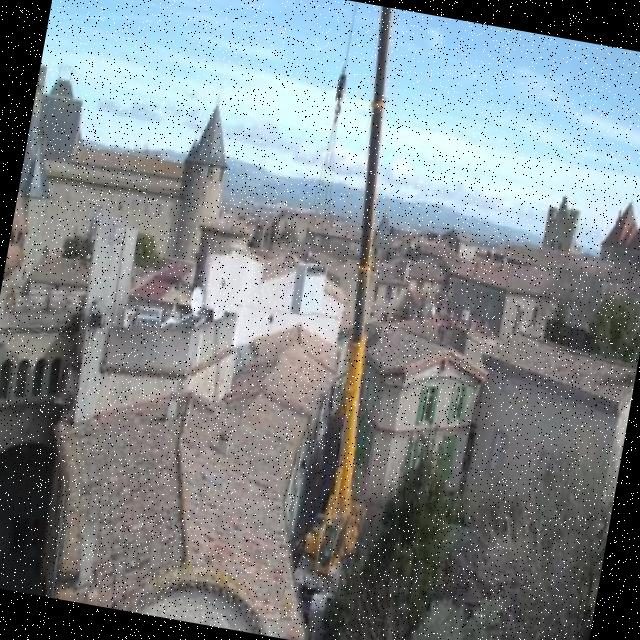Mobile Crane: (234, 0, 454, 611)
